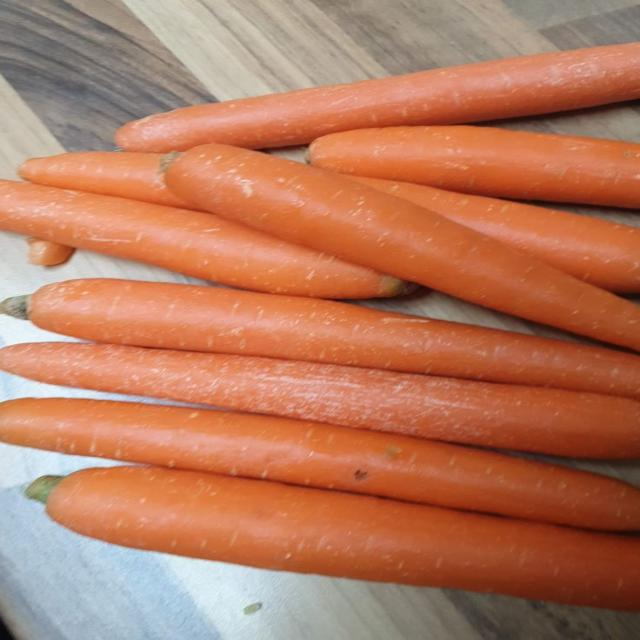carrot: (166, 145, 639, 349), (27, 467, 639, 610), (0, 398, 639, 530), (0, 279, 639, 399), (0, 343, 639, 458), (116, 43, 639, 152), (0, 181, 406, 298), (348, 176, 639, 292), (349, 176, 639, 292), (309, 126, 639, 207), (20, 152, 188, 208), (27, 238, 74, 265)
